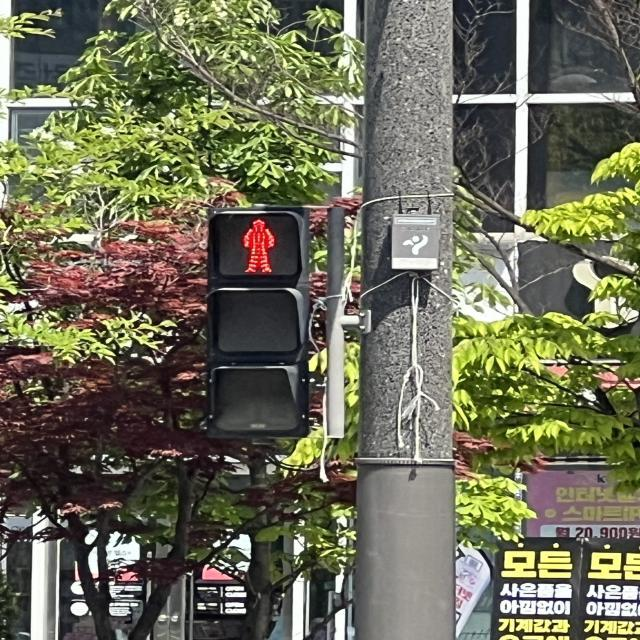red-light: (207, 215, 317, 461)
